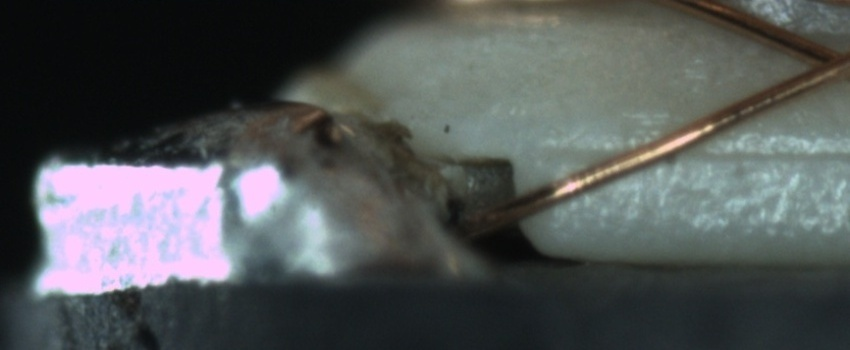CL: (781, 30, 849, 91)
DL: (554, 120, 846, 183)
